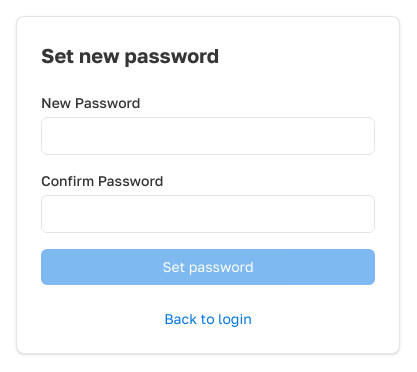
Test: ResetPassword.vue › criterion2: passwordWeak computed reactively disables submit for a blocklisted password
Type "password" into the 1st password field. click: (208, 136)
box: [41,117,375,155]
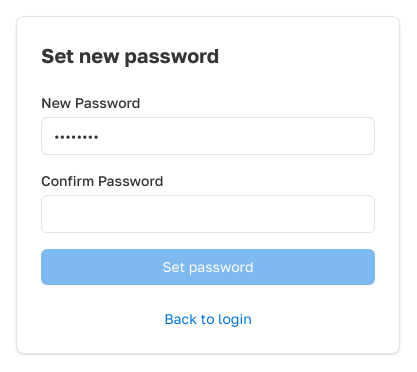
Expected: the submit button is disabled, [41,249,375,285]
Type "a-genuinely-strong-Passphrase-42" into the 1st password field. click: (208, 136)
box: [41,117,375,155]
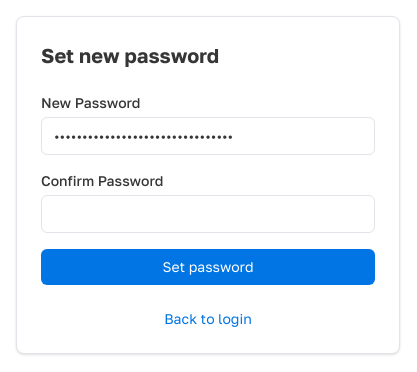
Expected: the submit button is enabled, [41,249,375,285]
